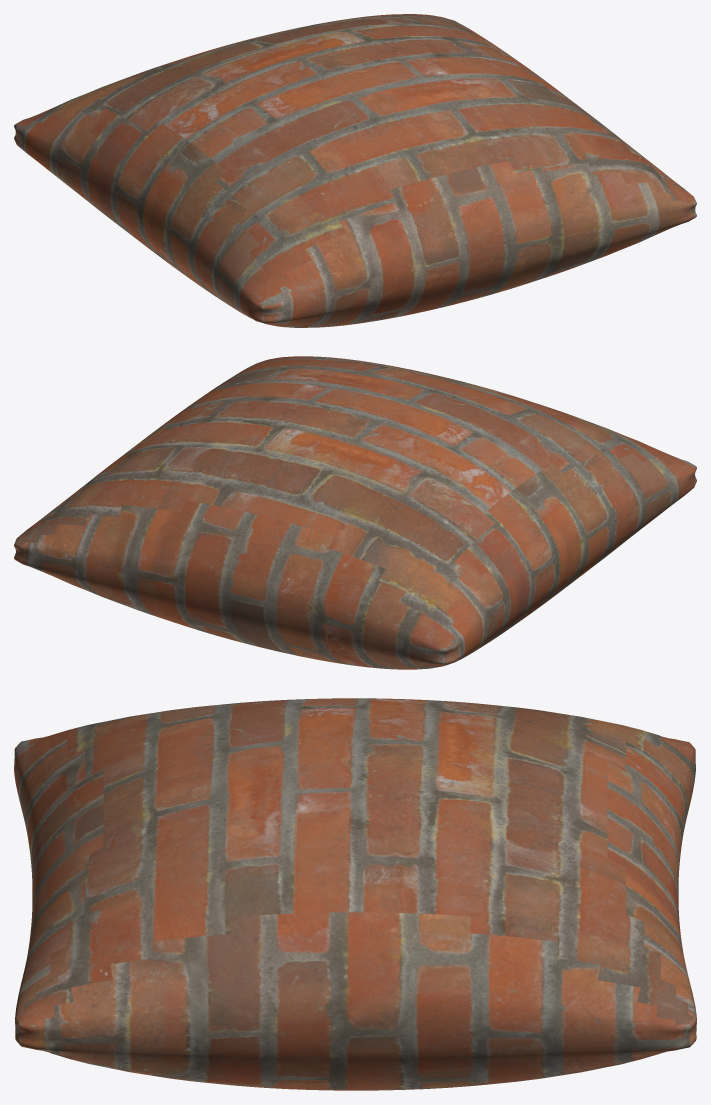
The model's file is pillow.obj.
3 views of the same model, one above another, from view 1: azimuth 30°, elevation 25°; view 2: azimuth 150°, elevation 25°; view 3: azimuth 270°, elevation 25° (orthographic). The views are drawn at different scales.
Parts seen in each view (by area): view 1: Pillow; view 2: Pillow; view 3: Pillow.
Boxes of the visible parts, left/top/right/bottom form: Pillow: left=14, top=14, right=696, bottom=327; Pillow: left=14, top=356, right=696, bottom=669; Pillow: left=14, top=698, right=696, bottom=1090.
Bounding box in the file's own units: 2.36 × 1.04 × 2.36.
